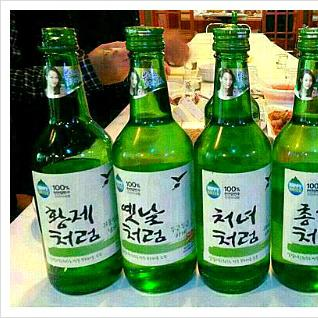soju: (23, 22, 318, 301)
